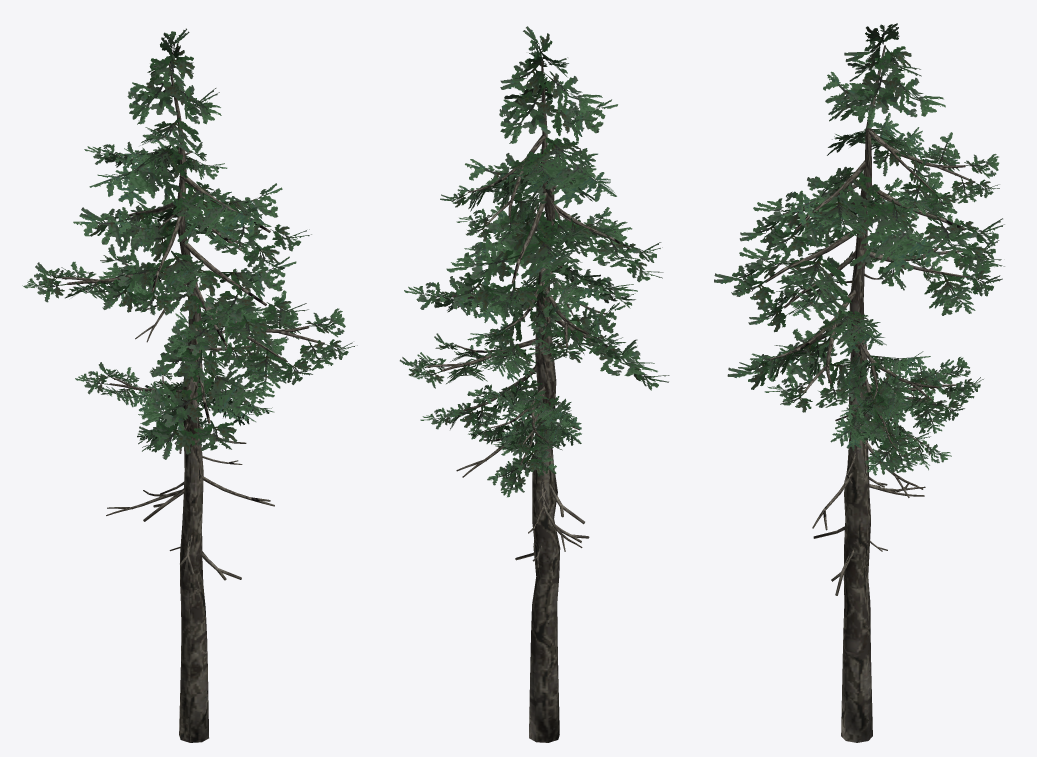
Rendered from Tree2-1-HalfLeaves.fbx.
3 views of the same model, side by side, from view 1: azimuth 30°, elevation 25°; view 2: azimuth 150°, elevation 25°; view 3: azimuth 270°, elevation 25° (orthographic). The views are drawn at different scales.
Visible parts, largest first — view 1: Tree2-1-HalfLeaves_LOD0; view 2: Tree2-1-HalfLeaves_LOD0; view 3: Tree2-1-HalfLeaves_LOD0.
Part boxes in pixels (box(x1,y1,x2,y2)): Tree2-1-HalfLeaves_LOD0: box(22, 28, 357, 742); Tree2-1-HalfLeaves_LOD0: box(399, 26, 669, 742); Tree2-1-HalfLeaves_LOD0: box(714, 23, 1004, 742).
Size of what is drawn, in the model's own units: 2.08 by 2 by 5.08.
